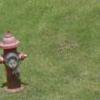Hydrant: (0, 25, 26, 94)
